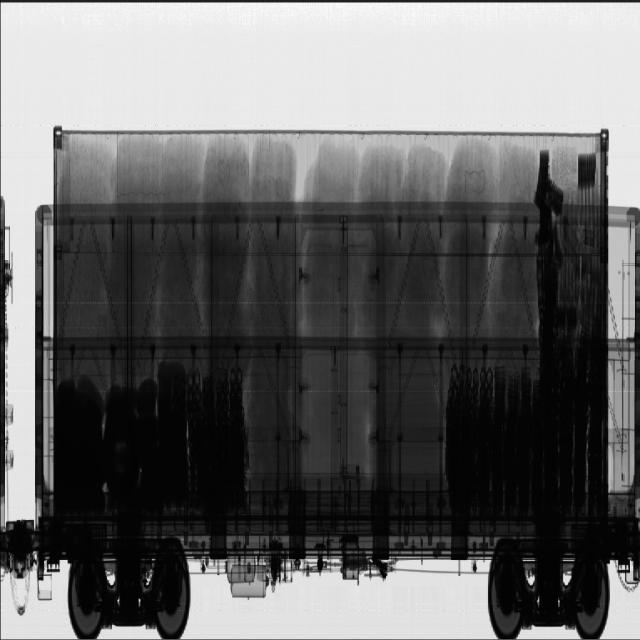textile: (56, 141, 619, 491)
